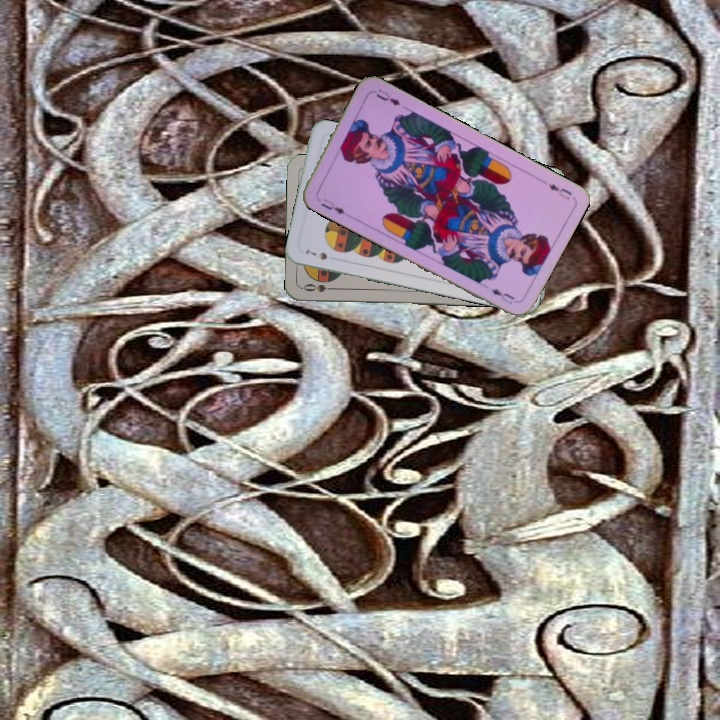EU: (317, 194, 348, 217), (544, 180, 575, 203)
S7: (301, 246, 330, 263)
SO: (299, 280, 340, 295)
